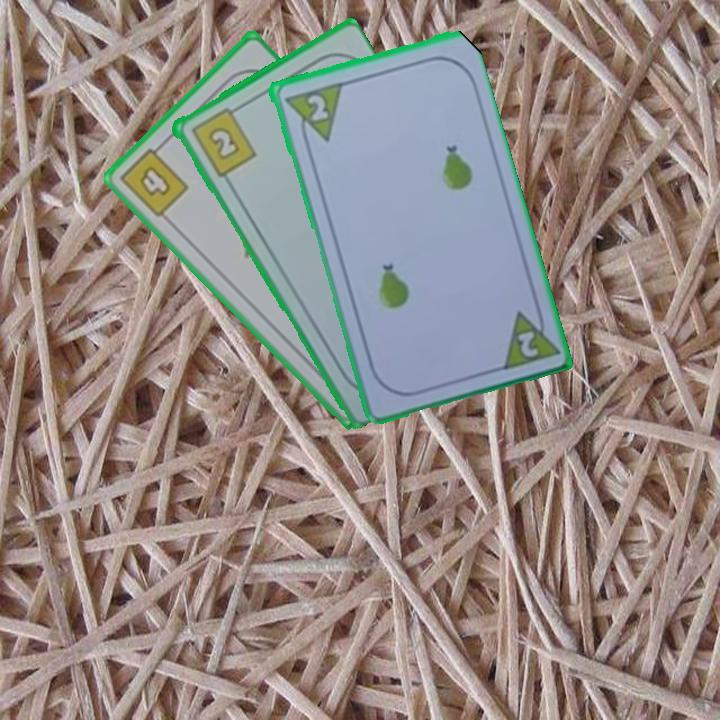2b: (187, 102, 259, 180)
2p: (513, 326, 541, 361), (303, 90, 331, 124)
4b: (116, 138, 192, 221)
